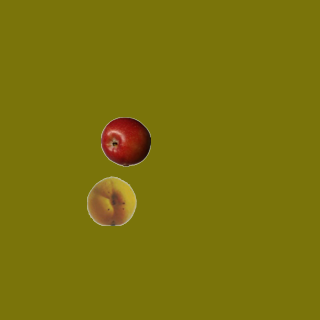Apple Braeburn: (100, 116, 150, 166)
Peach 2: (86, 175, 136, 225)
